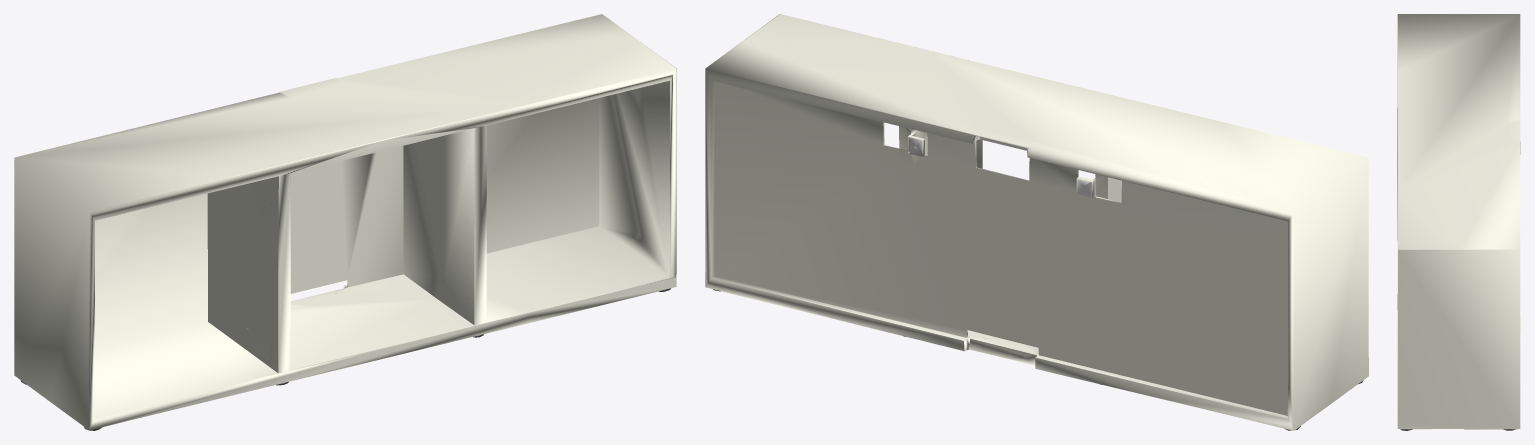
Rendered from besta_tv_unit_white.glb.
The picture shows the model from 3 angles, left to right: view 1: azimuth 30°, elevation 25°; view 2: azimuth 150°, elevation 25°; view 3: azimuth 270°, elevation 25°; orthographic projection. The views are drawn at different scales.
Visible parts, largest first — view 1: ProcessedMeshNode; view 2: ProcessedMeshNode; view 3: ProcessedMeshNode.
Boxes of the visible parts, <box> form: ProcessedMeshNode: <box>14,14,676,430</box>; ProcessedMeshNode: <box>705,14,1368,430</box>; ProcessedMeshNode: <box>1397,14,1520,430</box>.
Bounding box in the file's own units: 1.8 × 0.6517 × 0.3974.
Materials: 1 (1 with a texture image).
